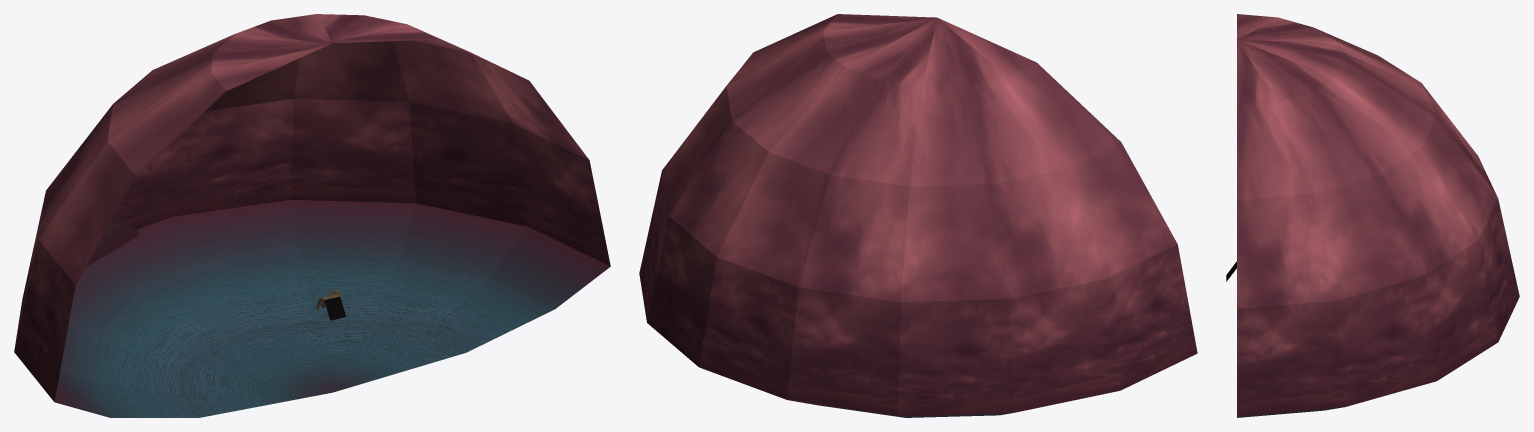
Rendered from StageSky.obj.
The picture shows the model from 3 angles, left to right: view 1: azimuth 30°, elevation 25°; view 2: azimuth 150°, elevation 25°; view 3: azimuth 270°, elevation 25°; orthographic projection. The views are drawn at different scales.
Visible parts, largest first — view 1: Sky, Sea, Volcano; view 2: Sky; view 3: Sky.
Boxes of the visible parts, box(x1,y1,x2,y2) form: Sky: box(14, 14, 610, 401); Sea: box(54, 200, 610, 417); Volcano: box(86, 214, 139, 266); Sky: box(639, 14, 1197, 415); Sky: box(1237, 14, 1519, 416).
Size of the model in its own units: 1600000 by 960000 by 830131.
7 materials, 7 textured.
